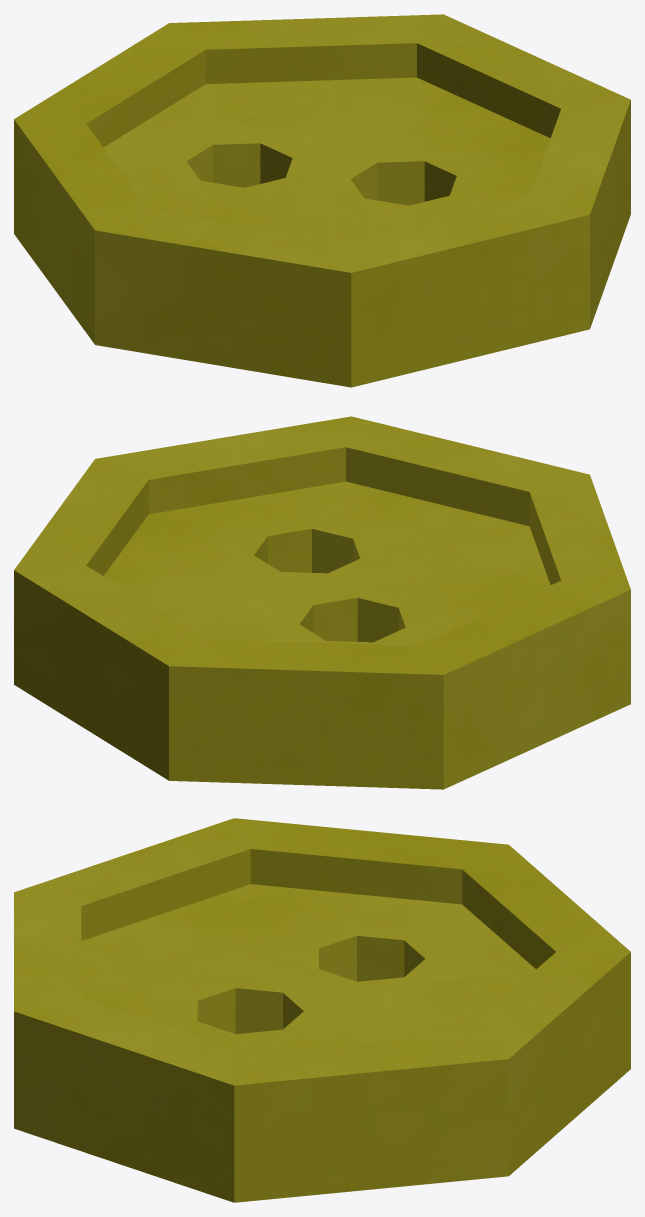
The model's file is Button_02.fbx.
The picture shows the model from 3 angles, top to bottom: view 1: azimuth 30°, elevation 25°; view 2: azimuth 150°, elevation 25°; view 3: azimuth 270°, elevation 25°; orthographic projection. The views are drawn at different scales.
Parts seen in each view (by area): view 1: Button_02; view 2: Button_02; view 3: Button_02.
Boxes of the visible parts, x1=… form: Button_02: x1=14, y1=14, x2=630, y2=387; Button_02: x1=14, y1=416, x2=630, y2=789; Button_02: x1=14, y1=818, x2=630, y2=1202.
Bounding box in the file's own units: 30.76 × 6.29 × 29.99.
